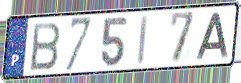5: (100, 16, 130, 69)
7: (64, 16, 94, 73), (169, 11, 196, 66)
A: (194, 12, 230, 61)
B: (29, 20, 62, 73)
I: (135, 13, 150, 67)
